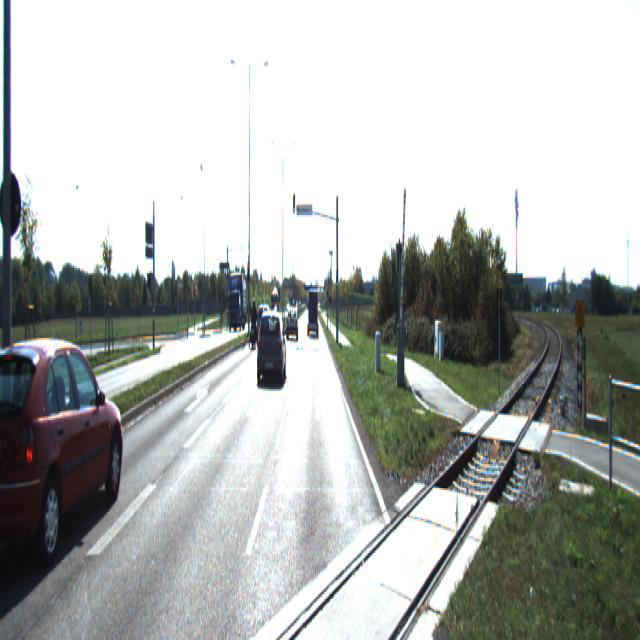Car: (0, 330, 129, 574), (256, 304, 286, 386), (228, 274, 248, 330), (256, 306, 270, 348), (307, 291, 319, 337), (286, 310, 298, 340)
